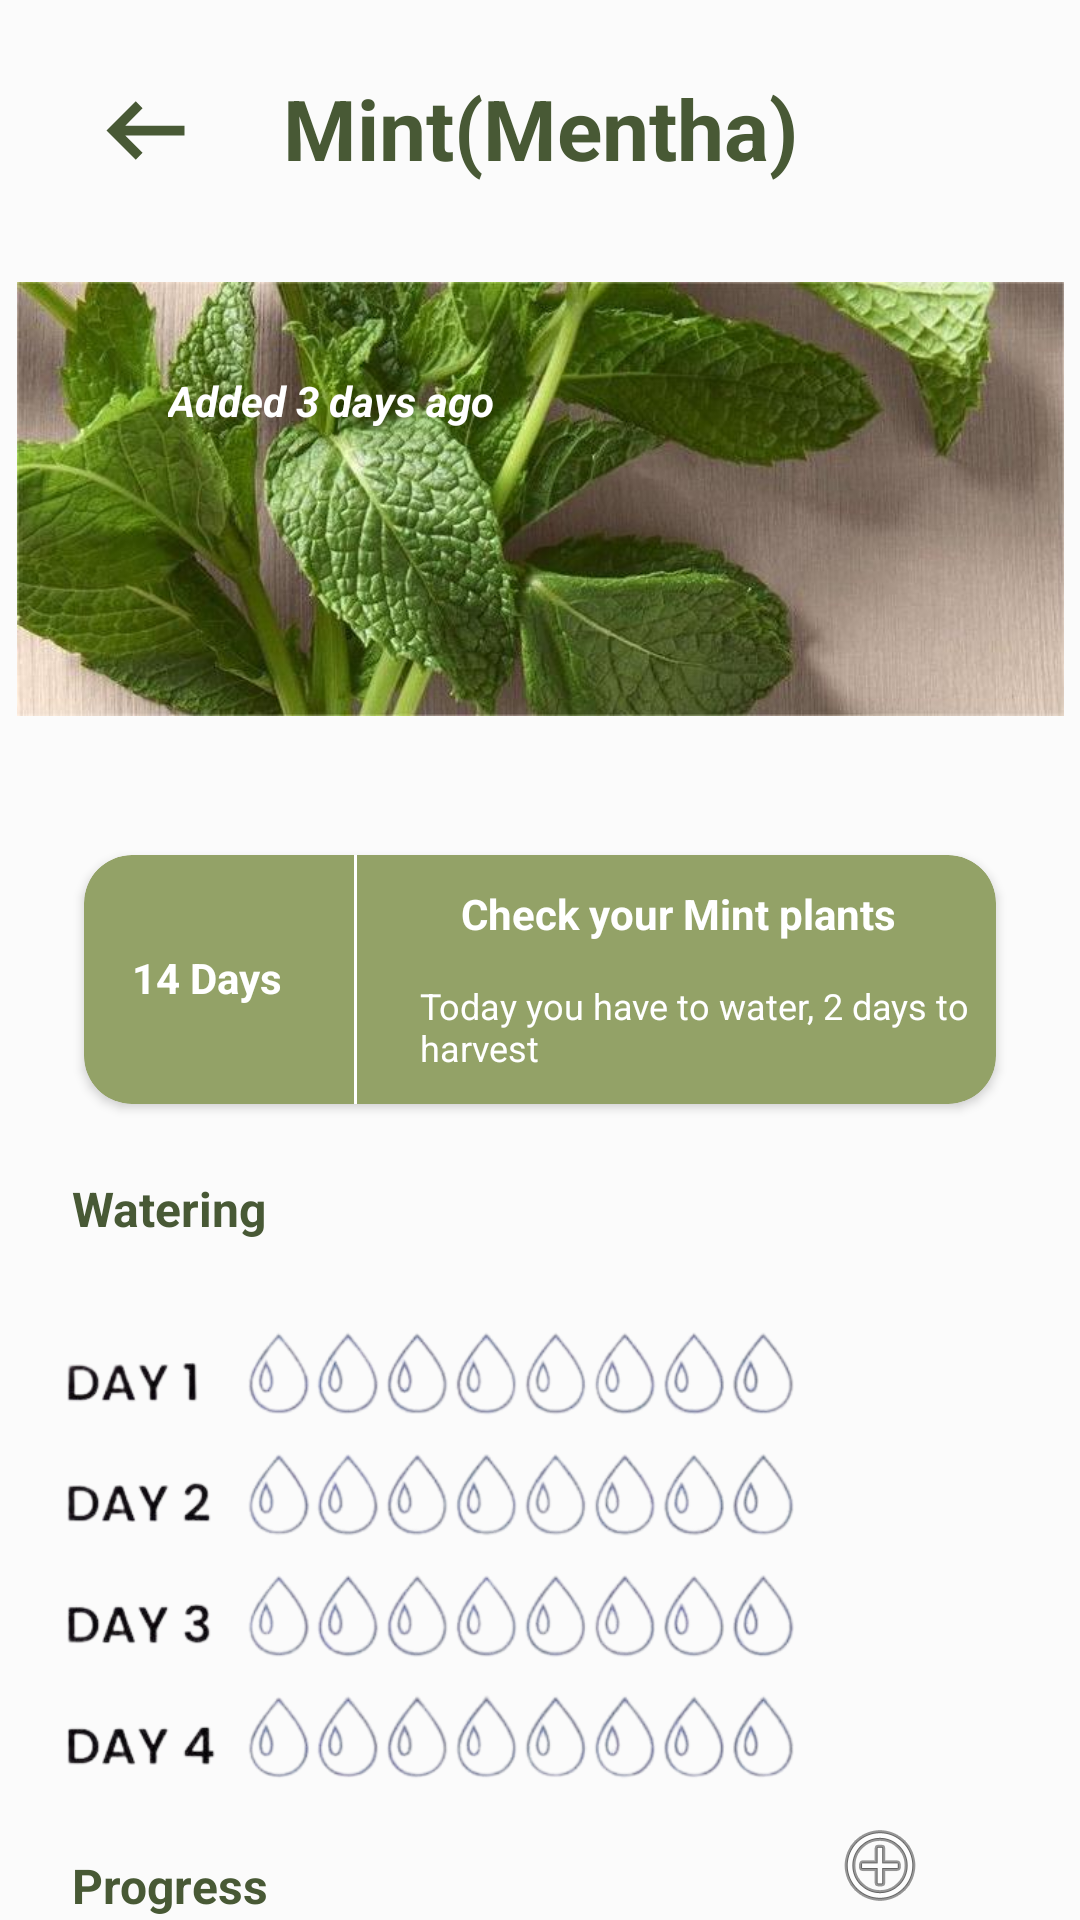

Icons on this 1080*1920 Android screen, each with the point to tap as (x,y):
add: (880,1865)
arrow left: (145,130)
